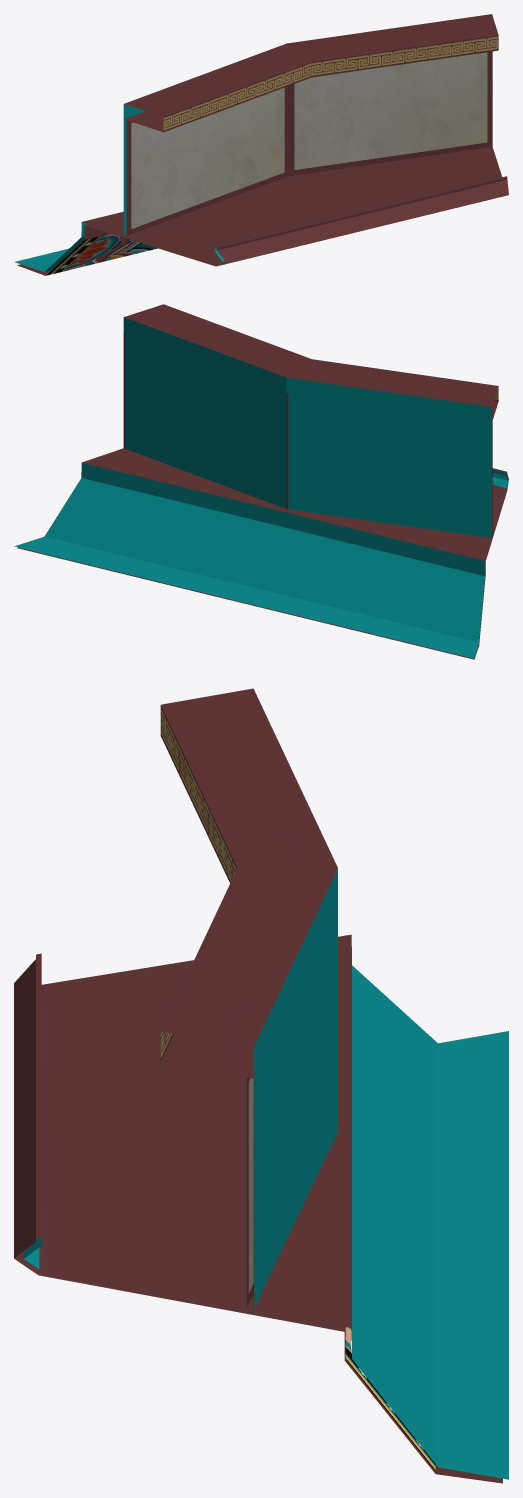
File: living_room_2ndwall.fbx
3 views of the same model, one above another, from view 1: azimuth 30°, elevation 25°; view 2: azimuth 150°, elevation 25°; view 3: azimuth 270°, elevation 25° (orthographic). The views are drawn at different scales.
Parts seen in each view (by area): view 1: living_room_2ndwall; view 2: living_room_2ndwall; view 3: living_room_2ndwall.
Boxes of the visible parts, bbox=[...] form: living_room_2ndwall: bbox=[14, 14, 508, 275]; living_room_2ndwall: bbox=[14, 304, 508, 659]; living_room_2ndwall: bbox=[14, 688, 508, 1483].
Size of the model in its own units: 1243 by 509 by 579.
